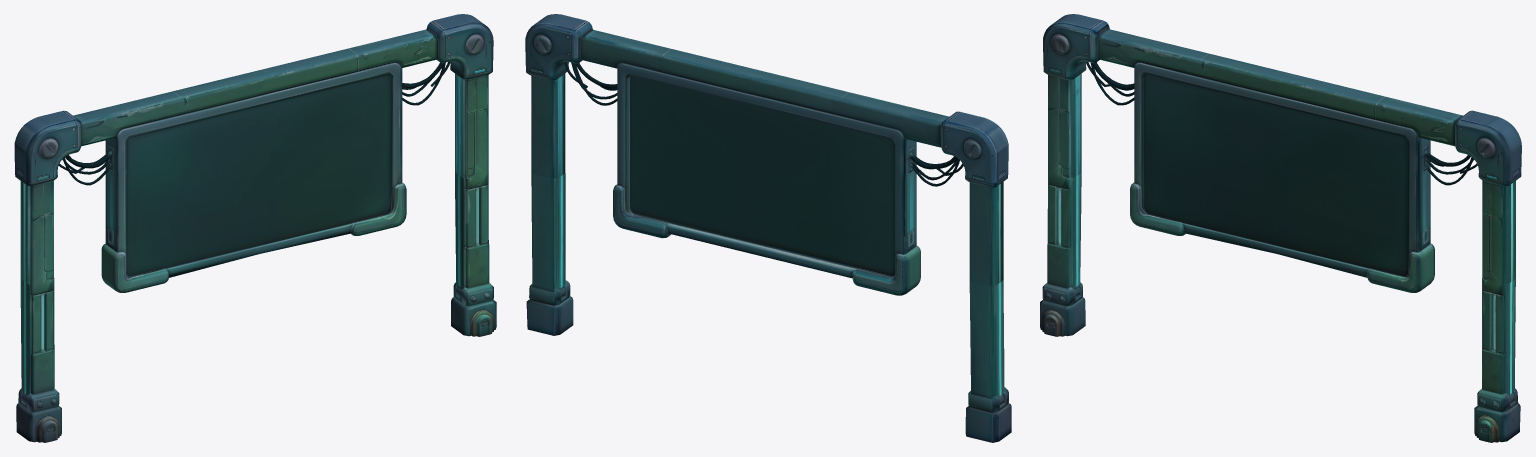
The model's file is billboard_archway.glb.
3 views of the same model, side by side, from view 1: azimuth 30°, elevation 25°; view 2: azimuth 150°, elevation 25°; view 3: azimuth 330°, elevation 25° (orthographic).
Parts seen in each view (by area): view 1: tripo_32bc1097_40a4_41cd_a1e6_162ef7ee5a3b; view 2: tripo_32bc1097_40a4_41cd_a1e6_162ef7ee5a3b; view 3: tripo_32bc1097_40a4_41cd_a1e6_162ef7ee5a3b.
Boxes of the visible parts, x1,y1,x2,y2 form: tripo_32bc1097_40a4_41cd_a1e6_162ef7ee5a3b: (14,14,496,442); tripo_32bc1097_40a4_41cd_a1e6_162ef7ee5a3b: (525,14,1011,442); tripo_32bc1097_40a4_41cd_a1e6_162ef7ee5a3b: (1040,14,1521,442).
Size of the model in its own units: 0.9995 by 0.6294 by 0.0874.
Materials: 1 (1 with a texture image).
